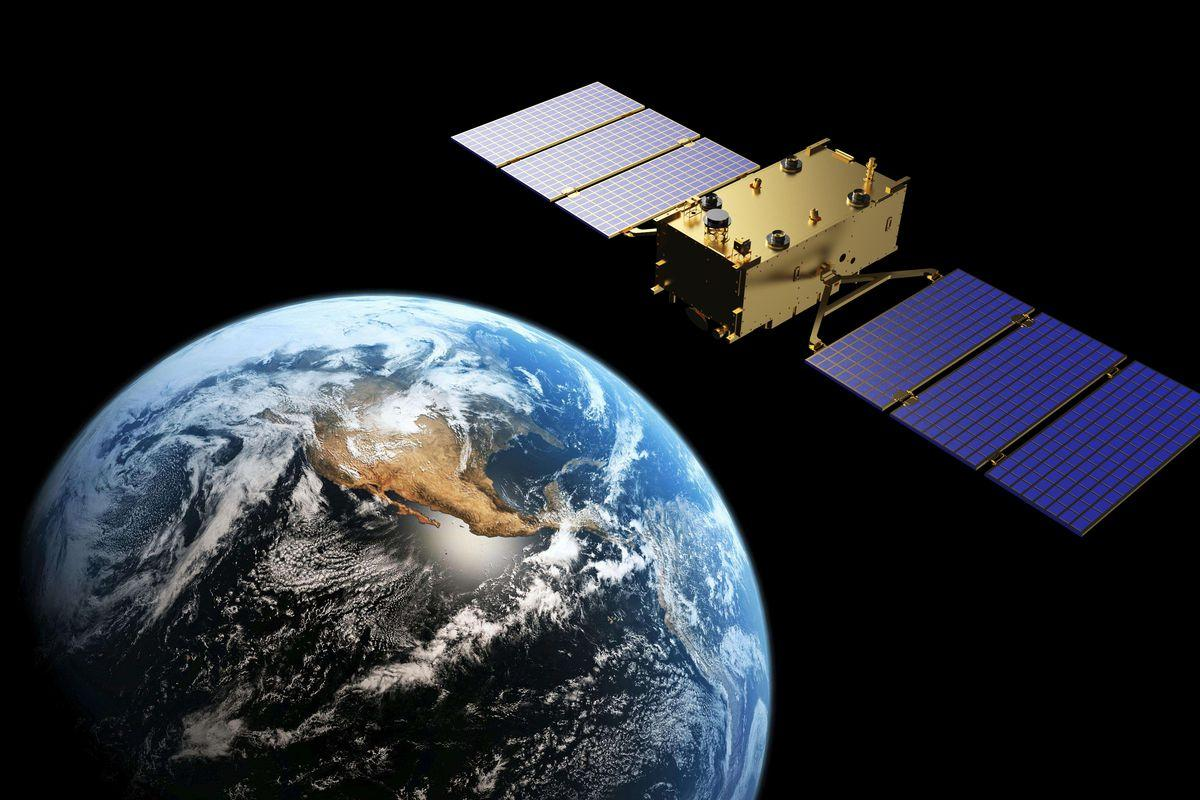body: (646, 133, 914, 347)
solar: (803, 266, 1200, 539), (448, 79, 762, 242)
